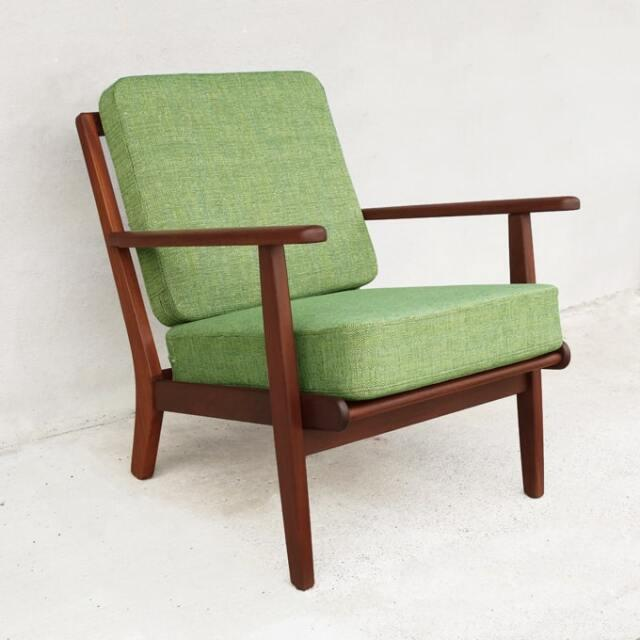chair vintage: (71, 69, 584, 591)
